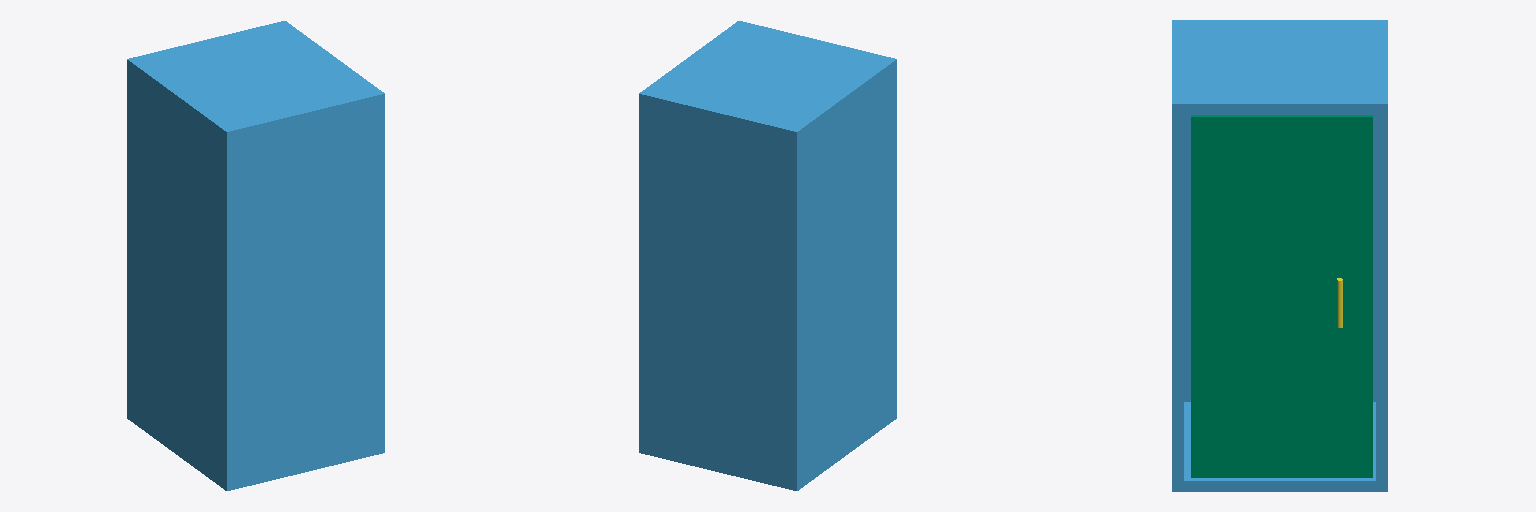
The robot description file, URDF, robot "my_cabinet":
<?xml version="1.0" ?>
<robot name="my_cabinet">
	<link name="world"/>
	<joint name="virtual_joint" type="fixed">
		<parent link="world"/>
		<child link="base_cabinet_link"/>
		<origin xyz="0.0 0.0 0.0" rpy="0.0 0.0 0.0"/>
	</joint>
	<link name="base_cabinet_link">
		<visual>
			<origin xyz="0.0 -0.0025 -0.3165143859997106" rpy="0.0 0.0 0.0"/>
			<geometry>
				<box size="0.3 0.3282714689362513 0.018"/>
			</geometry>
		</visual>
		<collision name="base_cabinet_link_collision_0">
			<origin xyz="0.0 -0.0025 -0.3165143859997106" rpy="0.0 0.0 0.0"/>
			<geometry>
				<box size="0.3 0.3282714689362513 0.018"/>
			</geometry>
		</collision>
		<visual>
			<origin xyz="0.0 0.15263573446812567 0.0" rpy="0.0 0.0 0.0"/>
			<geometry>
				<box size="0.3 0.018 0.6510287719994212"/>
			</geometry>
		</visual>
		<collision name="base_cabinet_link_collision_1">
			<origin xyz="0.0 0.15263573446812567 0.0" rpy="0.0 0.0 0.0"/>
			<geometry>
				<box size="0.3 0.018 0.6510287719994212"/>
			</geometry>
		</collision>
		<visual>
			<origin xyz="0.0 -0.15763573446812568 0.0" rpy="0.0 0.0 0.0"/>
			<geometry>
				<box size="0.3 0.018 0.6510287719994212"/>
			</geometry>
		</visual>
		<collision name="base_cabinet_link_collision_2">
			<origin xyz="0.0 -0.15763573446812568 0.0" rpy="0.0 0.0 0.0"/>
			<geometry>
				<box size="0.3 0.018 0.6510287719994212"/>
			</geometry>
		</collision>
		<visual>
			<origin xyz="0.0 -0.0025 0.3165143859997106" rpy="0.0 0.0 0.0"/>
			<geometry>
				<box size="0.3 0.3282714689362513 0.018"/>
			</geometry>
		</visual>
		<collision name="base_cabinet_link_collision_3">
			<origin xyz="0.0 -0.0025 0.3165143859997106" rpy="0.0 0.0 0.0"/>
			<geometry>
				<box size="0.3 0.3282714689362513 0.018"/>
			</geometry>
		</collision>
		<visual>
			<origin xyz="-0.141 -0.0025 0.0" rpy="0.0 0.0 0.0"/>
			<geometry>
				<box size="0.018 0.3282714689362513 0.6510287719994212"/>
			</geometry>
		</visual>
		<collision name="base_cabinet_link_collision_4">
			<origin xyz="-0.141 -0.0025 0.0" rpy="0.0 0.0 0.0"/>
			<geometry>
				<box size="0.018 0.3282714689362513 0.6510287719994212"/>
			</geometry>
		</collision>
		<inertial>
			<mass value="0.200000"/>
			<inertia ixx="0.008860" ixy="0.0" ixz="0.0" iyy="0.008564" iyz="0.0" izz="0.003296"/>
		</inertial>
	</link>
	<link name="door_link">
		<visual>
			<origin xyz="0.0 -0.13863573446812566 0.0"/>
			<geometry>
				<box size="0.018 0.2772714689362513 0.6050287719994212"/>
			</geometry>
		</visual>
		<collision name="door_link_collision">
			<origin xyz="0.0 -0.13863573446812566 0.0"/>
			<geometry>
				<box size="0.018 0.2772714689362513 0.6050287719994212"/>
			</geometry>
		</collision>
		<inertial>
			<mass value="0.200000"/>
			<inertia ixx="0.007382" ixy="0.0" ixz="0.0" iyy="0.006106" iyz="0.0" izz="0.001287"/>
		</inertial>
	</link>
	<joint name="door_joint" type="revolute">
		<origin xyz="0.141 -0.13863573446812566 0.0" rpy="0.000000 -0.000000 3.141593"/>
		<axis xyz="0 0 1"/>
		<parent link="base_cabinet_link"/>
		<child link="door_link"/>
		<limit effort="50" lower="-1.658062789394613" upper="0" velocity="10"/>
		<dynamics friction="3.5" damping="3.5"/>
	</joint>
	<link name="handle_link">
		<visual>
			<origin xyz="0.0 0.0 0.0" rpy="0.0 0.0 0.0"/>
			<geometry>
				<cylinder length="0.08" radius="0.005"/>
			</geometry>
		</visual>
		<collision name="handle_link_collision_0">
			<origin xyz="0.0 0.0 0.0" rpy="0.0 0.0 0.0"/>
			<geometry>
				<cylinder length="0.08" radius="0.005"/>
			</geometry>
		</collision>
		<visual>
			<origin xyz="-0.01 0.0 0.02" rpy="0.0 1.5707963267948966 0.0"/>
			<geometry>
				<cylinder length="0.02" radius="0.003"/>
			</geometry>
		</visual>
		<collision name="handle_link_collision_1">
			<origin xyz="-0.01 0.0 0.02" rpy="0.0 1.5707963267948966 0.0"/>
			<geometry>
				<cylinder length="0.01" radius="0.003"/>
			</geometry>
		</collision>
		<visual>
			<origin xyz="-0.01 0.0 -0.02" rpy="0.0 1.5707963267948966 0.0"/>
			<geometry>
				<cylinder length="0.02" radius="0.003"/>
			</geometry>
		</visual>
		<collision name="handle_link_collision_2">
			<origin xyz="-0.01 0.0 -0.02" rpy="0.0 1.5707963267948966 0.0"/>
			<geometry>
				<cylinder length="0.02" radius="0.003"/>
			</geometry>
		</collision>
		<inertial>
			<mass value="0.050000"/>
			<inertia ixx="0.000027" ixy="0.0" ixz="0.0" iyy="0.000029" iyz="0.0" izz="0.000003"/>
		</inertial>
	</link>
	<joint name="handle_joint" type="fixed">
		<origin xyz="-0.028999999999999998 -0.22727146893625133 0.0" rpy="0.000000 -0.000000 3.141593"/>
		<parent link="door_link"/>
		<child link="handle_link"/>
	</joint>
	<gazebo reference="base_cabinet_link">
		<sensor name="main_sensor" type="contact">
			<selfCollide>true</selfCollide>
			<alwaysOn>true</alwaysOn>
			<updateRate>5.0</updateRate>
			<material>Gazebo/Red</material>
			<contact>
				<collision>base_cabinet_link_collision_0_collision</collision>
				<collision>base_cabinet_link_collision_1_collision</collision>
				<collision>base_cabinet_link_collision_2_collision</collision>
				<collision>base_cabinet_link_collision_3_collision</collision>
				<collision>base_cabinet_link_collision_4_collision</collision>
			</contact>
			<plugin name="gazebo_ros_bumper_controller" filename="libgazebo_ros_bumper.so">
				<bumperTopicName>/contact</bumperTopicName>
				<frameName>world</frameName>
			</plugin>
		</sensor>
	</gazebo>
	<gazebo reference="door_link">
		<sensor name="main_sensor" type="contact">
			<selfCollide>true</selfCollide>
			<alwaysOn>true</alwaysOn>
			<updateRate>5.0</updateRate>
			<material>Gazebo/Red</material>
			<contact>
				<collision>door_link_collision_collision</collision>
			</contact>
			<plugin name="gazebo_ros_bumper_controller" filename="libgazebo_ros_bumper.so">
				<bumperTopicName>/contact_door</bumperTopicName>
				<frameName>contact_door</frameName>
			</plugin>
		</sensor>
	</gazebo>
	<gazebo reference="door_link">
		<mu>3.0</mu>
		<mu2>3.0</mu2>
		<kp>10000000</kp>
		<kd>100</kd>
	</gazebo>
</robot>

--- Facts derived from the render (not from the file) ---
Views: 3 orthographic renders of the robot side by side, from view 1: azimuth 30°, elevation 25°; view 2: azimuth 150°, elevation 25°; view 3: azimuth 270°, elevation 25°.
Model my_cabinet with 4 links and 3 joints (1 revolute, 2 fixed), rooted at world, posed all joints at 0.
Visible links, largest first — view 1: base_cabinet_link; view 2: base_cabinet_link; view 3: door_link, base_cabinet_link.
Link boxes in pixels (x1,y1,x2,y2): base_cabinet_link: (127,21,384,490); base_cabinet_link: (639,21,896,490); door_link: (1191,115,1372,477); base_cabinet_link: (1172,20,1387,491).
Bounding box of the posed robot: 0.325 × 0.3283 × 0.651 m (x, y, z).
Geometry: primitives only (box / cylinder / sphere), no mesh files.
